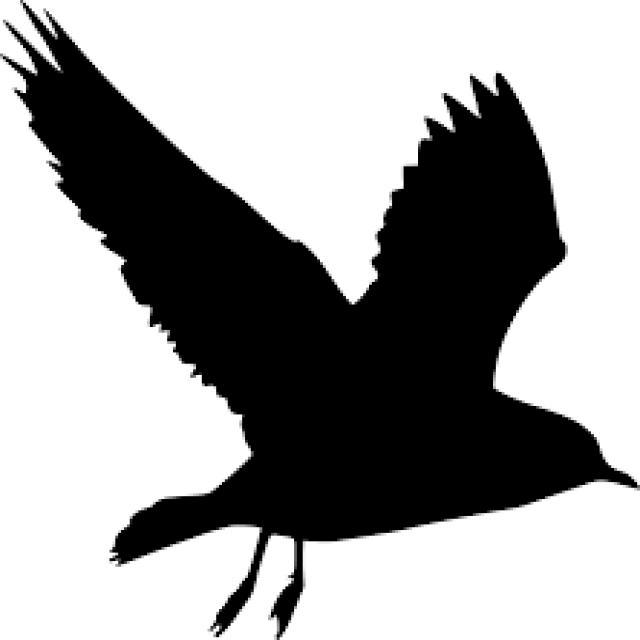bird: (8, 2, 640, 631)
